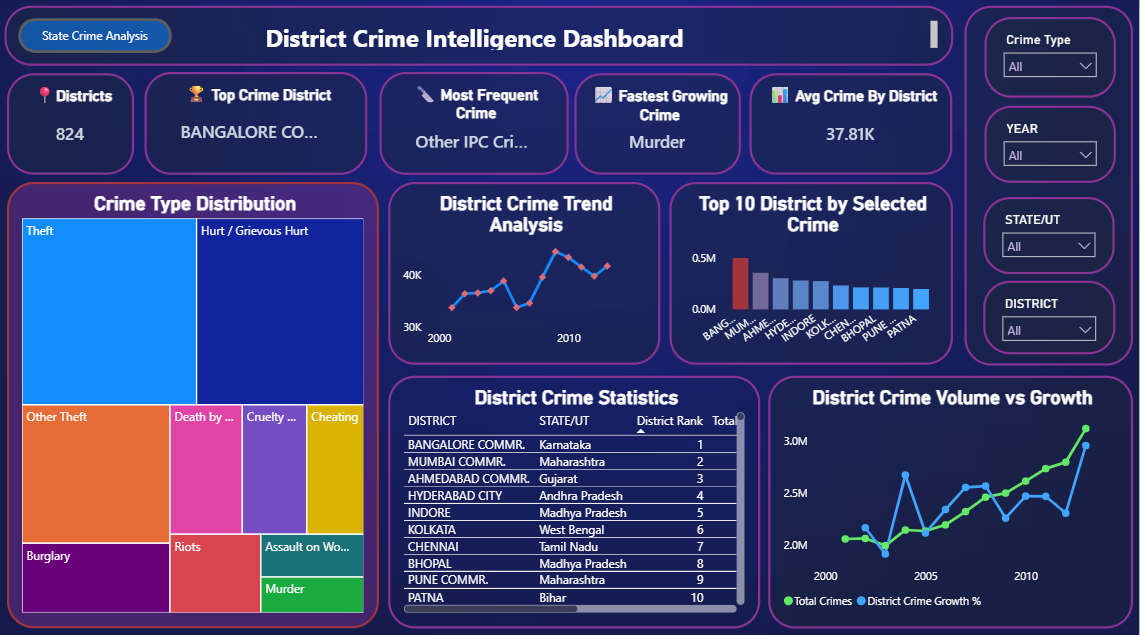

What the dashboard file says about the page in this screenshot:
{"tool":"powerbi","page":{"name":"District Crime Intelligence Dashboard","canvas":[1280,720],"ordinal":3},"visuals":[{"type":"cardVisual","title":"🏆 Top Crime District","fields":{"Data":["Crime Type.Highest Crime District"]},"box":[165.7,84.2,249.9,115.1],"z":0},{"type":"cardVisual","title":"📍Districts","fields":{"Data":["Crime Type.Total Districts"]},"box":[11.2,85.4,142.7,113.3],"z":1000},{"type":"textbox","box":[8.4,9.8,1063.4,67.2],"z":2000},{"type":"shape","box":[1084,10.4,188.8,403],"z":3000},{"type":"slicer","fields":{"Values":["DATA TABLE.YEAR"]},"box":[1106.3,121.9,147.2,86.2],"z":4000},{"type":"slicer","fields":{"Values":["DATA TABLE.DISTRICT"]},"box":[1105.8,318.3,148,82.4],"z":5000},{"type":"lineChart","title":"District Crime Trend Analysis","fields":{"Category":["DATA TABLE.YEAR"],"Y":["Crime Type.Selected Crime Value"],"Series":["DATA TABLE.DISTRICT"]},"box":[438,207.8,304.6,205],"z":6000},{"type":"columnChart","title":" Top 10 District by Selected Crime","fields":{"Y":["Crime Type.Selected Crime Value"],"Category":["DATA TABLE.DISTRICT"]},"box":[753.9,207.8,317.3,205],"z":7000},{"type":"slicer","fields":{"Values":["Crime Type.Crime Type"]},"box":[1106.3,22.3,147.2,90.7],"z":8000},{"type":"slicer","fields":{"Values":["DATA TABLE.STATE/UT"]},"box":[1105.4,223.9,146.9,86.8],"z":9000},{"type":"cardVisual","title":" 📊 Avg Crime By District","fields":{"Data":["Crime Type.Avg Crime per District"]},"box":[843.7,85.6,227.4,113.7],"z":10000},{"type":"treemap","title":"Crime Type Distribution","fields":{"Group":["Crime Type.Crime Type"],"Values":["Crime Type.Selected Crime Value"]},"box":[11.2,207.8,416.9,499.8],"z":11000},{"type":"tableEx","title":"District Crime Statistics","fields":{"Values":["DATA TABLE.DISTRICT","DATA TABLE.STATE/UT","Crime Type.District Rank","DATA TABLE.Total Crimes","Crime Type.District Crime Growth %","Crime Type.Most Frequent Crime"]},"box":[438,424,416.9,283.6],"z":12000},{"type":"lineChart","title":"District Crime Volume vs Growth","fields":{"Category":["DATA TABLE.YEAR"],"Y":["DATA TABLE.Total Crimes"],"Y2":["Crime Type.District Crime Growth %"]},"box":[864.8,424,408.5,283.6],"z":13000},{"type":"cardVisual","title":"🔪 Most Frequent Crime","fields":{"Data":["Crime Type.Most Frequent Crime"]},"box":[428.2,84.2,212,115.1],"z":14000},{"type":"cardVisual","title":"📈 Fastest Growing Crime","fields":{"Data":["Crime Type.Fastest Growing Crime"]},"box":[647.2,85.6,186.7,113.7],"z":15000},{"type":"actionButton","box":[23.6,23.6,172,38.8],"z":16000}]}

Visuals, with their boxes in screenshot pixels (x1, y1, x2, y2), scaled from the page's 1280x720 canvas onto the 1140x635 screenshot:
"🏆 Top Crime District" cardVisual: box(148, 74, 370, 176)
"📍Districts" cardVisual: box(10, 75, 137, 175)
textbox: box(7, 9, 955, 68)
shape: box(965, 9, 1134, 365)
slicer - DATA TABLE.YEAR: box(985, 108, 1116, 184)
slicer - DATA TABLE.DISTRICT: box(985, 281, 1117, 353)
"District Crime Trend Analysis" lineChart: box(390, 183, 661, 364)
" Top 10 District by Selected Crime" columnChart: box(671, 183, 954, 364)
slicer - Crime Type.Crime Type: box(985, 20, 1116, 100)
slicer - DATA TABLE.STATE/UT: box(984, 197, 1115, 274)
" 📊 Avg Crime By District" cardVisual: box(751, 75, 954, 176)
"Crime Type Distribution" treemap: box(10, 183, 381, 624)
"District Crime Statistics" tableEx: box(390, 374, 761, 624)
"District Crime Volume vs Growth" lineChart: box(770, 374, 1134, 624)
"🔪 Most Frequent Crime" cardVisual: box(381, 74, 570, 176)
"📈 Fastest Growing Crime" cardVisual: box(576, 75, 743, 176)
actionButton: box(21, 21, 174, 55)
